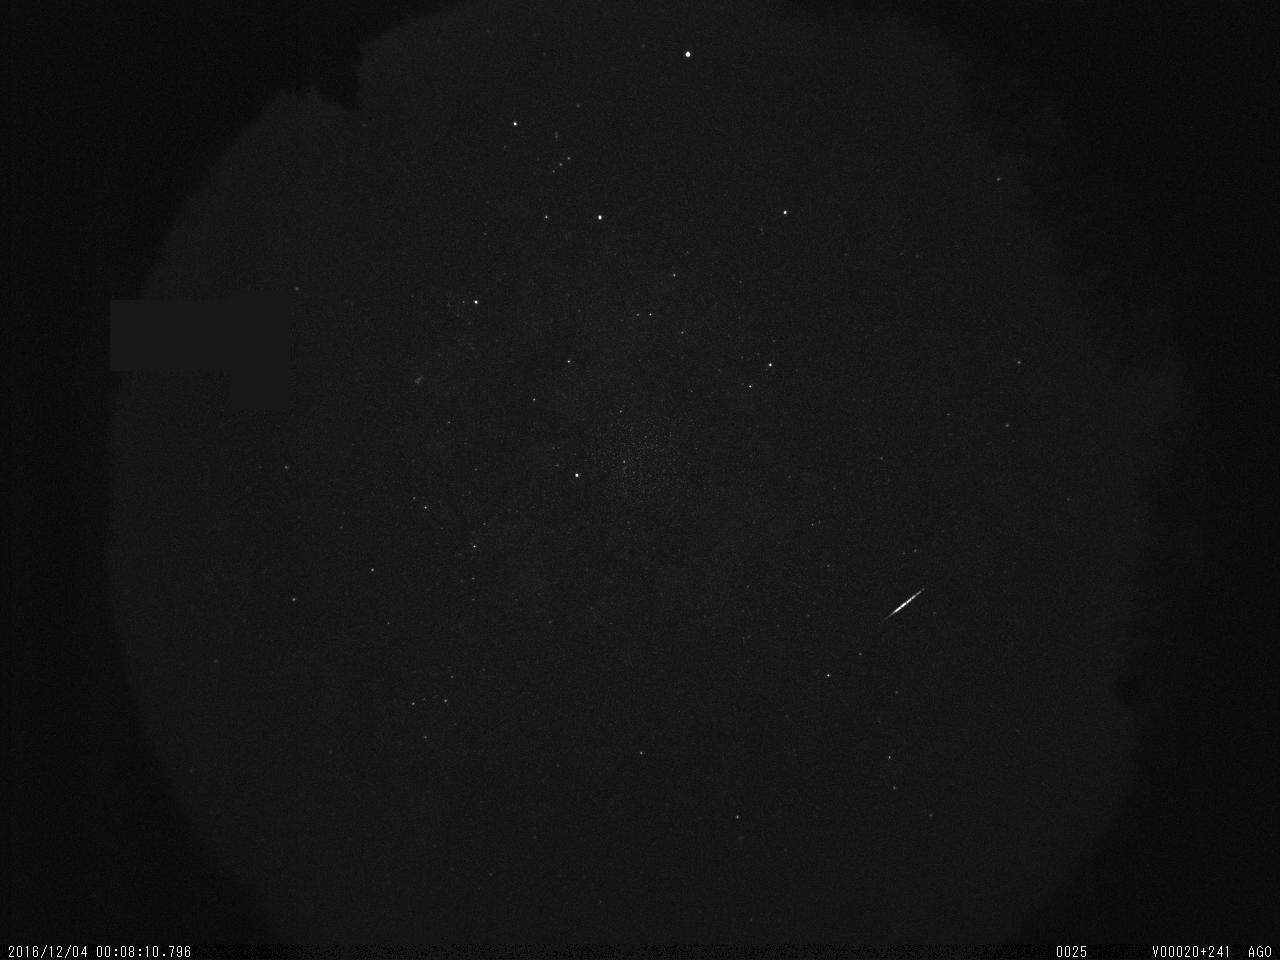meteor: (880, 580, 930, 634)
